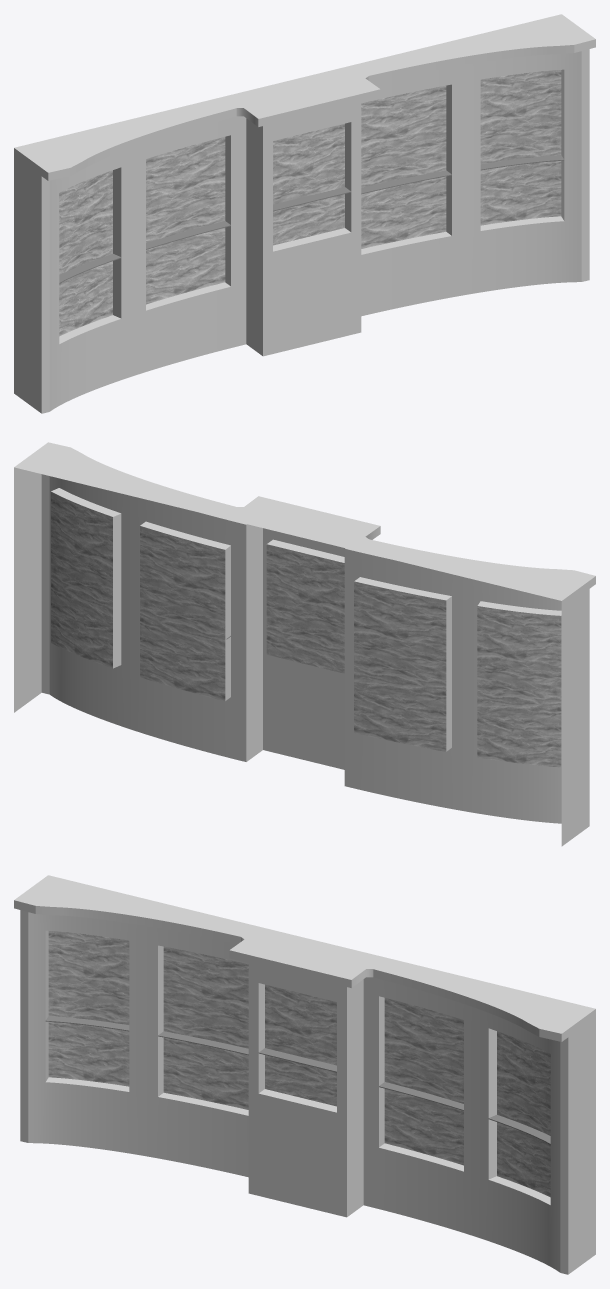
Rendered from Bar05Rack.FBX.
3 renders of one model, top to bottom at view 1: azimuth 30°, elevation 25°; view 2: azimuth 150°, elevation 25°; view 3: azimuth 330°, elevation 25°, orthographic.
Parts seen in each view (by area): view 1: Bar05Rack; view 2: Bar05Rack; view 3: Bar05Rack.
Part boxes in pixels (x1,y1,x2,y2): Bar05Rack: (14,14,595,413); Bar05Rack: (14,442,595,846); Bar05Rack: (14,875,595,1274).
Size of the model in its own units: 700 by 300 by 76.6.
